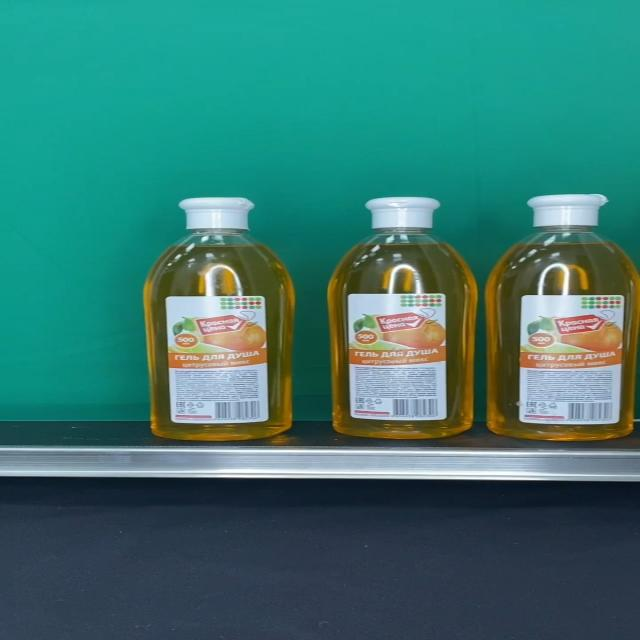Bottle: (486, 193, 640, 440), (145, 196, 295, 441), (328, 196, 478, 438)
Cap: (526, 194, 608, 228), (364, 197, 442, 230), (179, 197, 255, 230)
